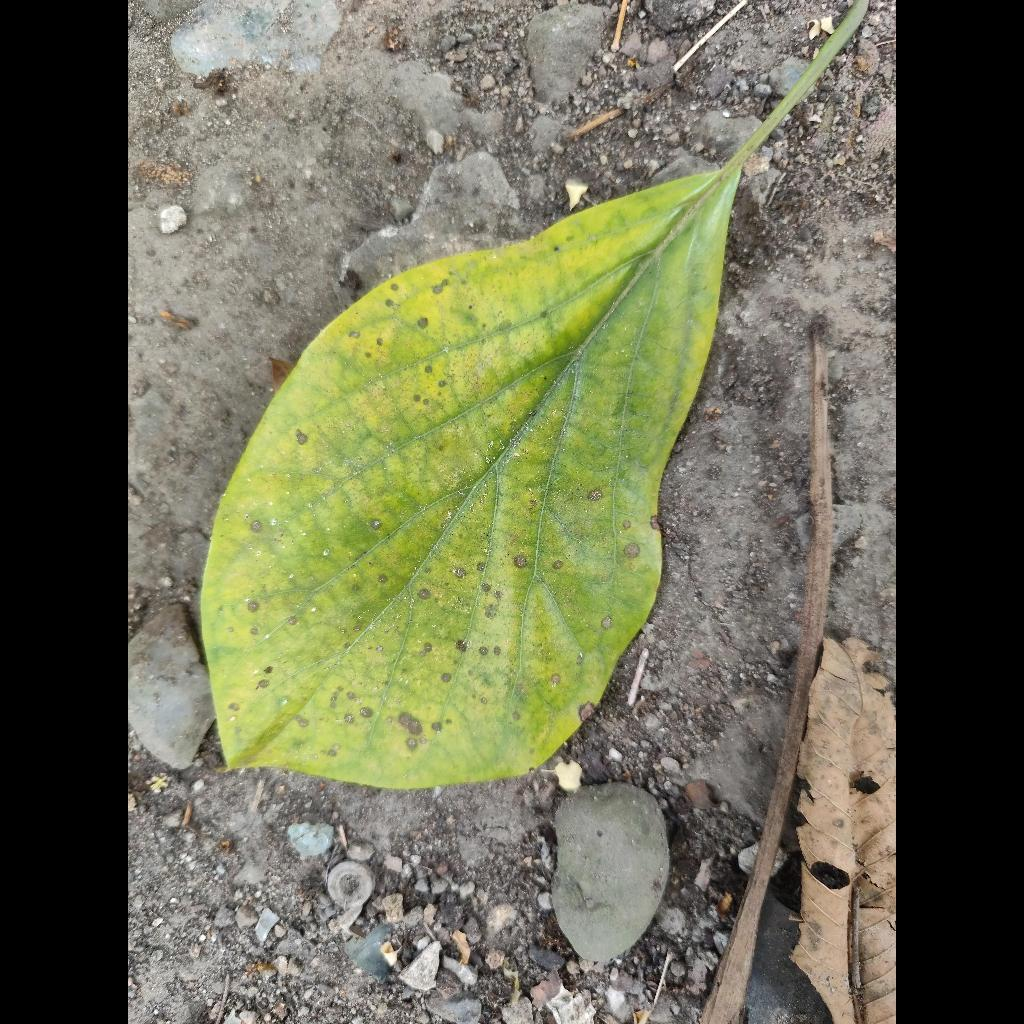nutrient_deficiency: (201, 158, 740, 788)
